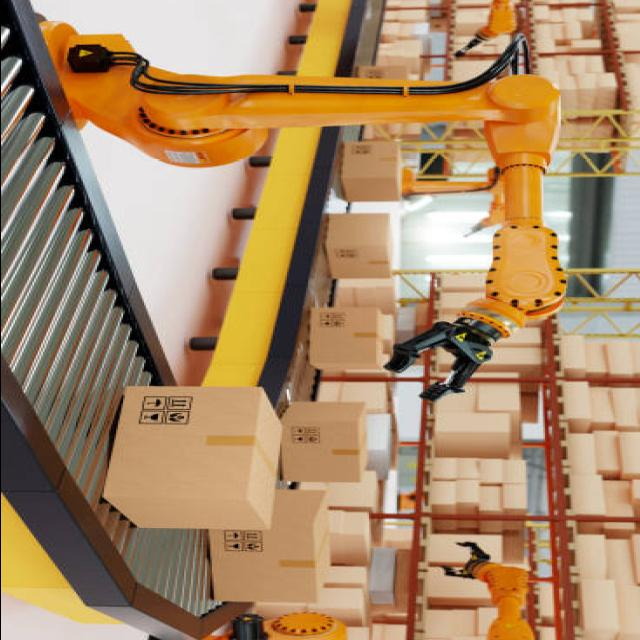Robotic-arm: (22, 9, 574, 336)
